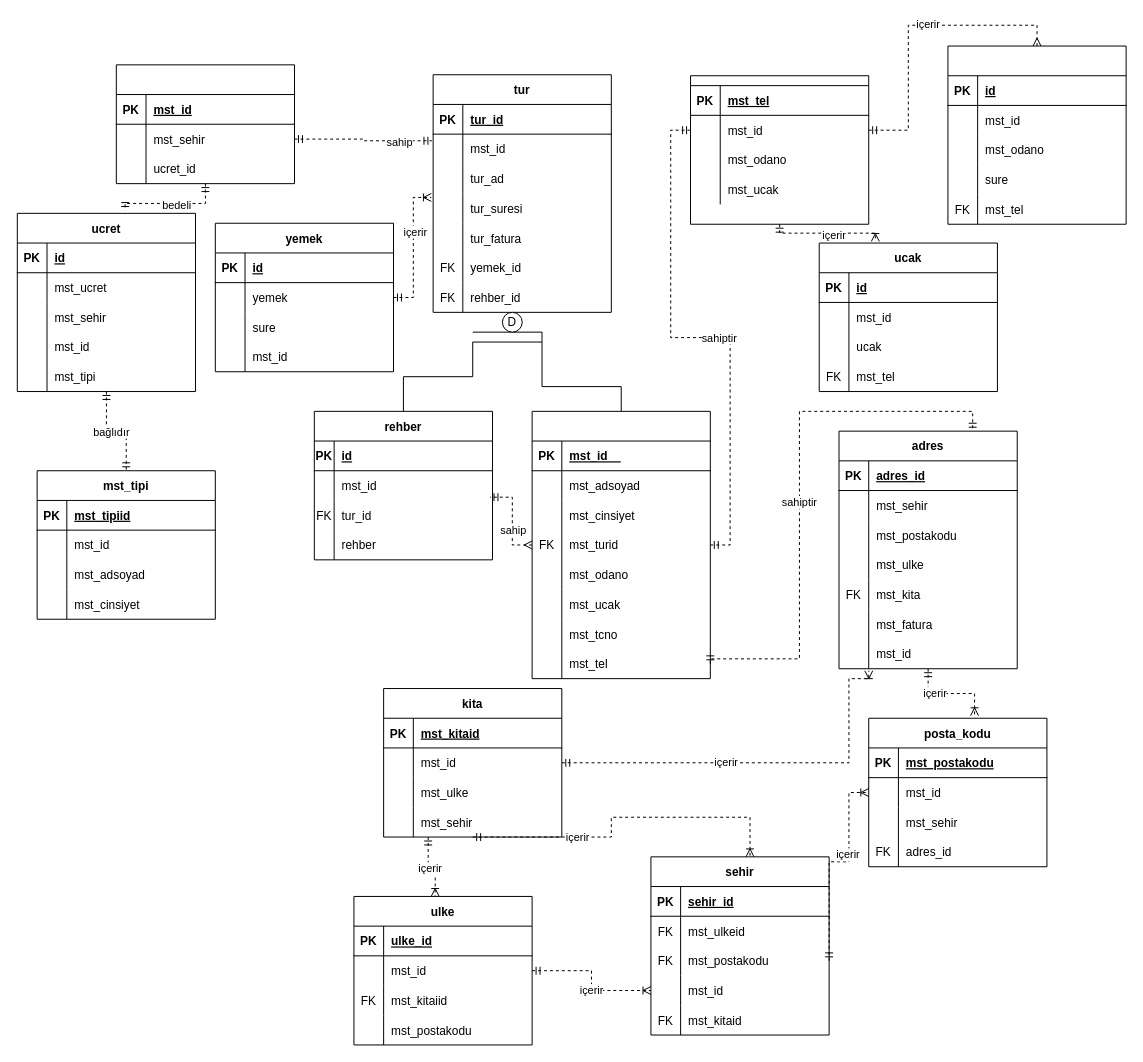
Image size: 1143x1062. Some labels were removed from this diagram. Each missing label, with the box of its shape:
fatura: (115, 64, 295, 184)
musteri: (531, 410, 710, 679)
otel: (947, 45, 1126, 224)
telefon: (690, 75, 869, 224)
